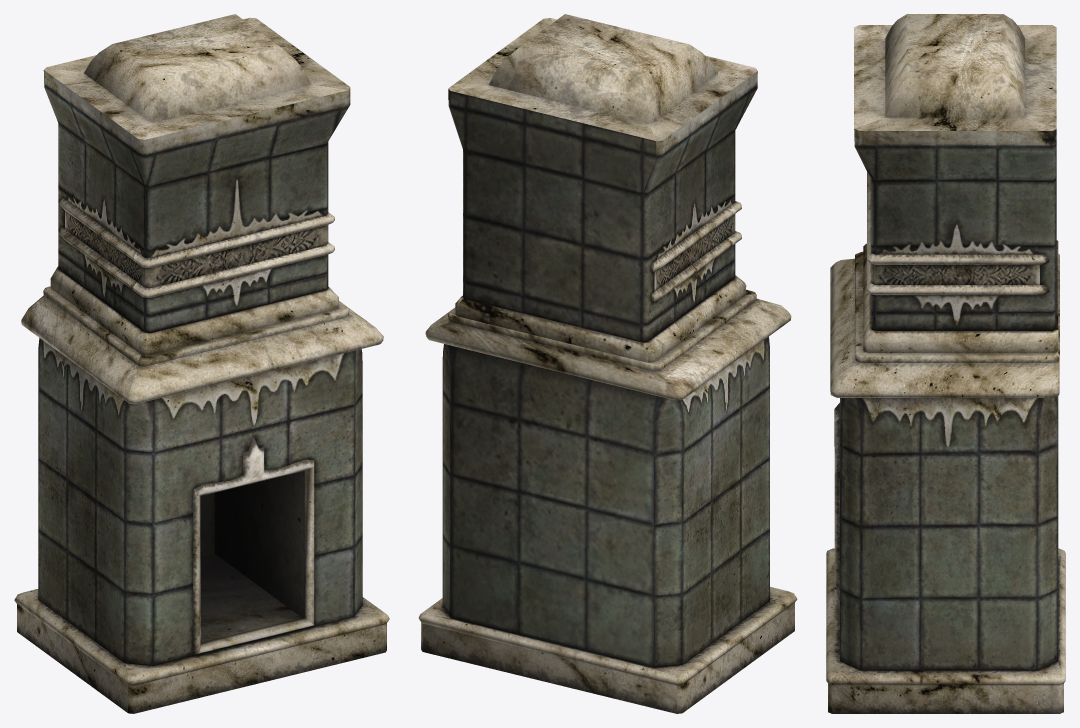
File: stove_front01.dae
The picture shows the model from 3 angles, left to right: view 1: azimuth 30°, elevation 25°; view 2: azimuth 150°, elevation 25°; view 3: azimuth 270°, elevation 25°; orthographic projection. The views are drawn at different scales.
Parts seen in each view (by area): view 1: stove_front01_mesh; view 2: stove_front01_mesh; view 3: stove_front01_mesh.
Boxes of the visible parts, x1,y1,x2,y2 form: stove_front01_mesh: (14,14,389,713); stove_front01_mesh: (418,14,797,713); stove_front01_mesh: (826,14,1065,713).
Bounding box in the file's own units: 1.64 × 3.53 × 1.27.
